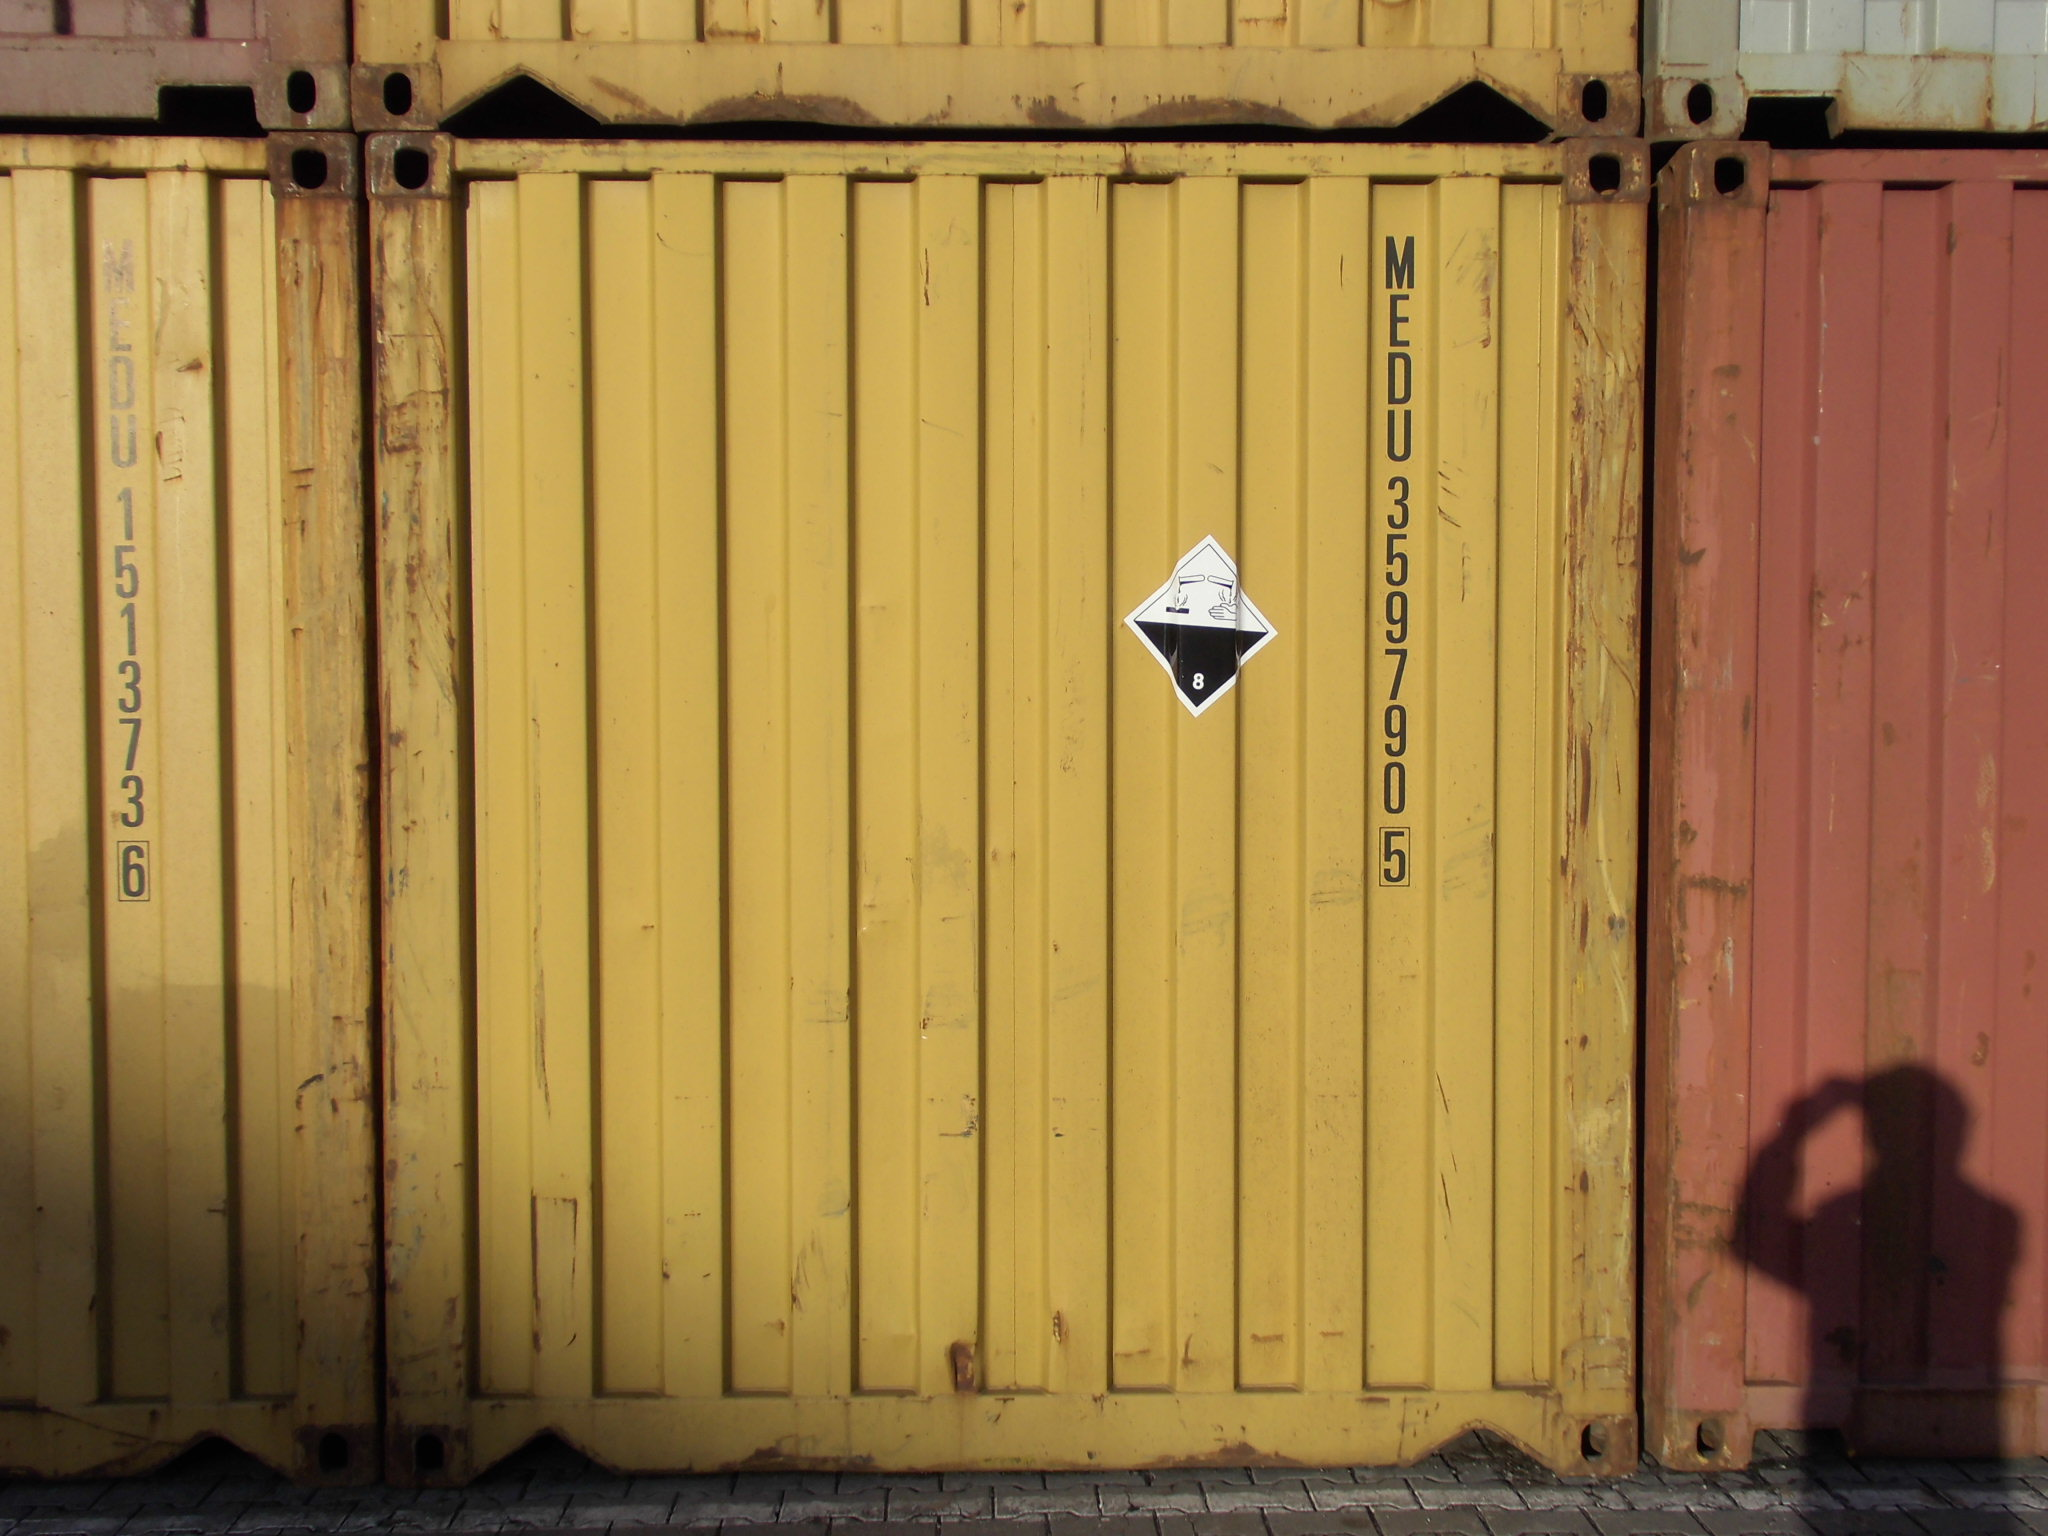container_no_door: (384, 111, 1661, 1497)
